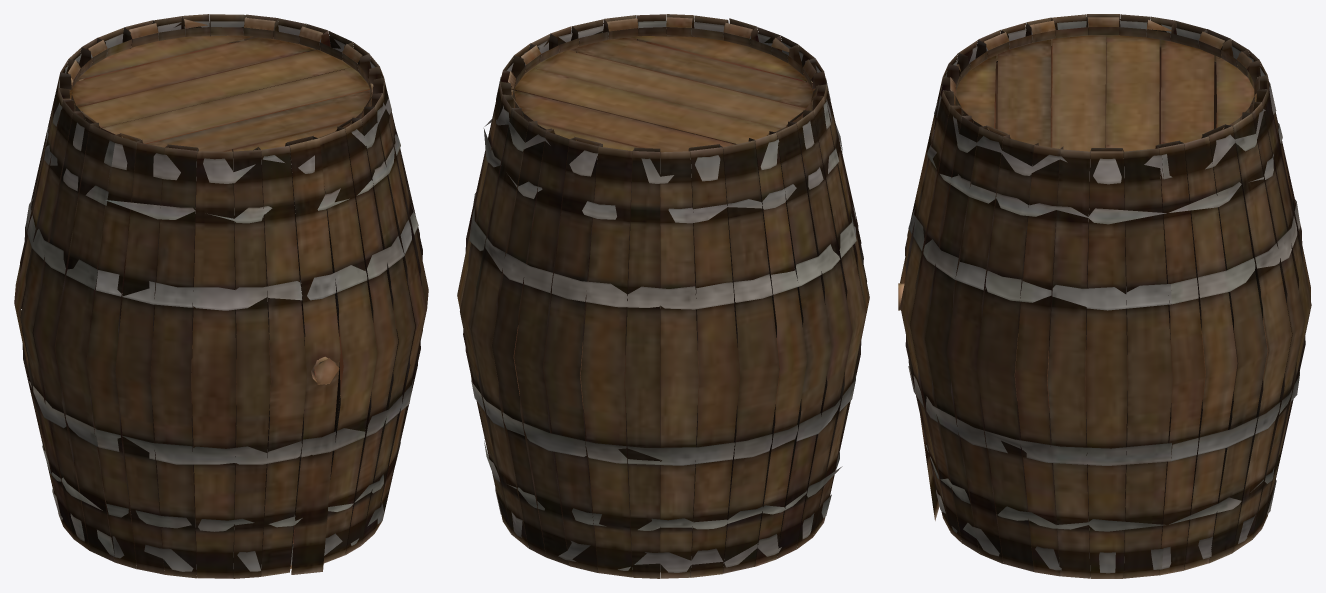
The model's file is wine_barrel_01.glb.
The picture shows the model from 3 angles, left to right: view 1: azimuth 30°, elevation 25°; view 2: azimuth 150°, elevation 25°; view 3: azimuth 270°, elevation 25°; orthographic projection.
Visible parts, largest first — view 1: wine_barrel_01, wine_barrel_01_Lid, wine_barrel_01_bung; view 2: wine_barrel_01, wine_barrel_01_Lid; view 3: wine_barrel_01, wine_barrel_01_Lid.
Part boxes in pixels (x1,y1,x2,y2): wine_barrel_01: (14, 14, 428, 578); wine_barrel_01_Lid: (69, 35, 373, 151); wine_barrel_01_bung: (311, 356, 339, 384); wine_barrel_01: (457, 14, 869, 578); wine_barrel_01_Lid: (511, 36, 815, 152); wine_barrel_01: (900, 14, 1311, 578); wine_barrel_01_Lid: (954, 35, 1256, 151).
Bounding box in the file's own units: 0.761 × 0.8782 × 0.762.
Materials: 1 (1 with a texture image).
